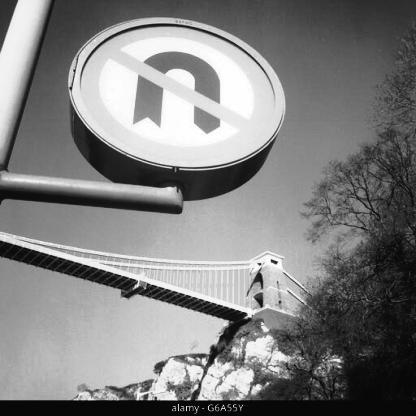No U-turn: (68, 14, 292, 175)
